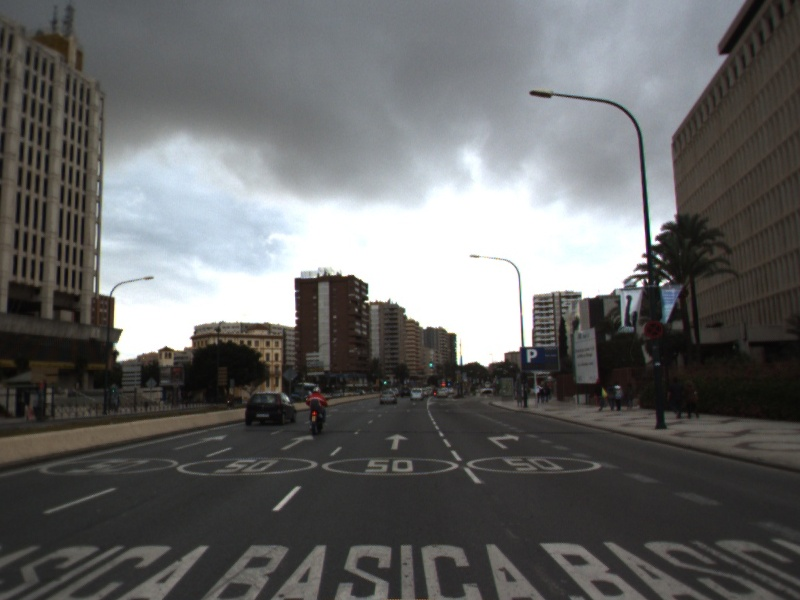RIGHT: (484, 431, 521, 451)
STRAIGHT: (171, 432, 231, 452), (279, 433, 316, 452), (383, 432, 411, 451)
